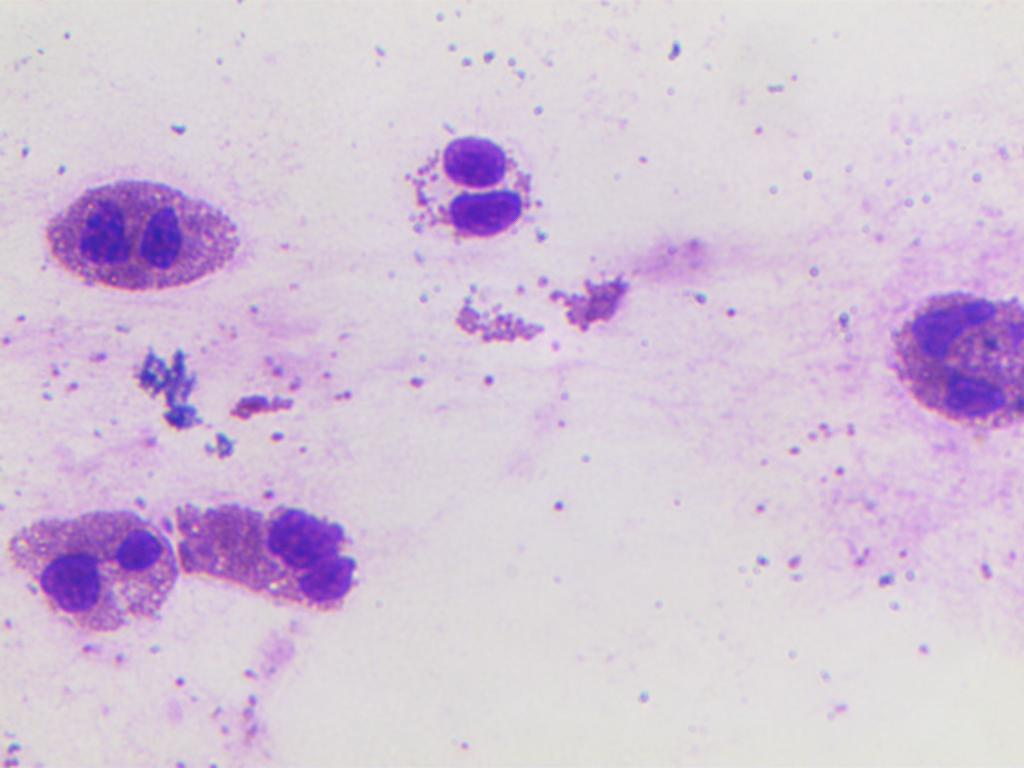eosinophil: (25, 167, 254, 297), (174, 476, 374, 617), (3, 497, 175, 643), (397, 119, 549, 273), (901, 248, 1024, 438)
